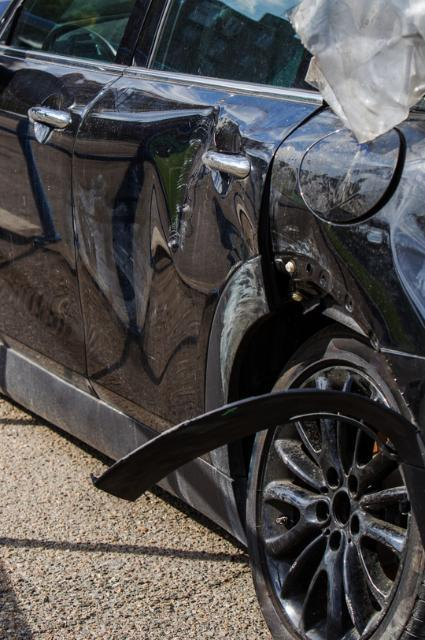Door: (85, 0, 282, 482)
Fender: (319, 102, 425, 364)
